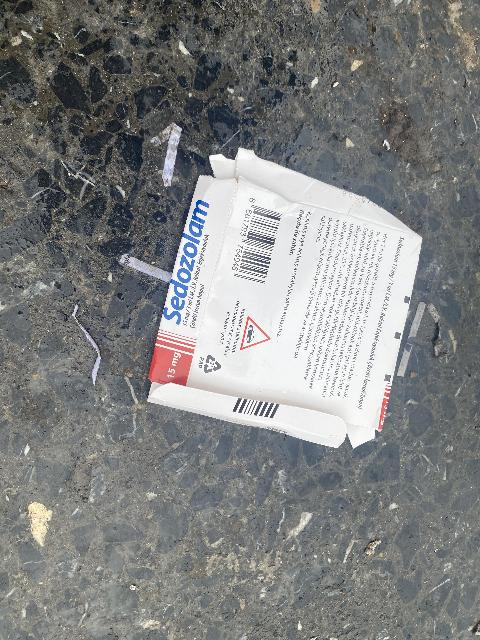Kagit: (144, 138, 429, 463)
